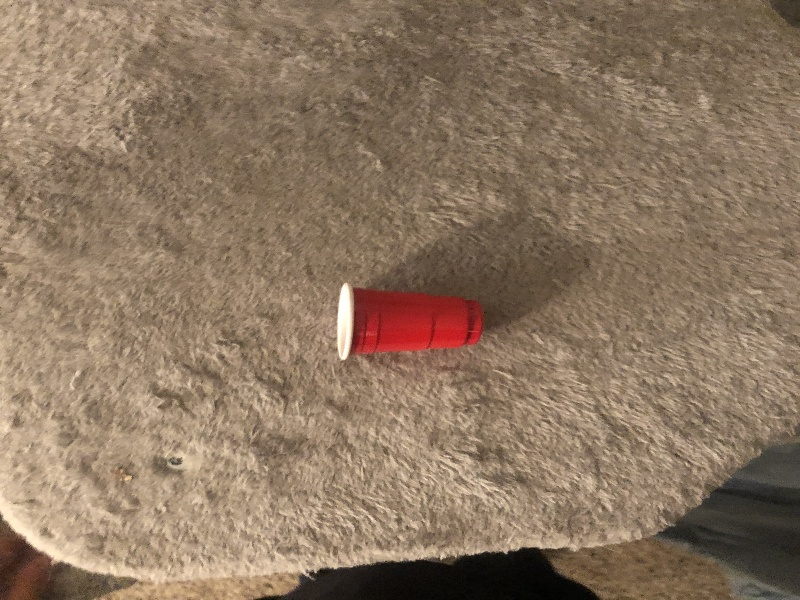plastic: (331, 279, 485, 362)
